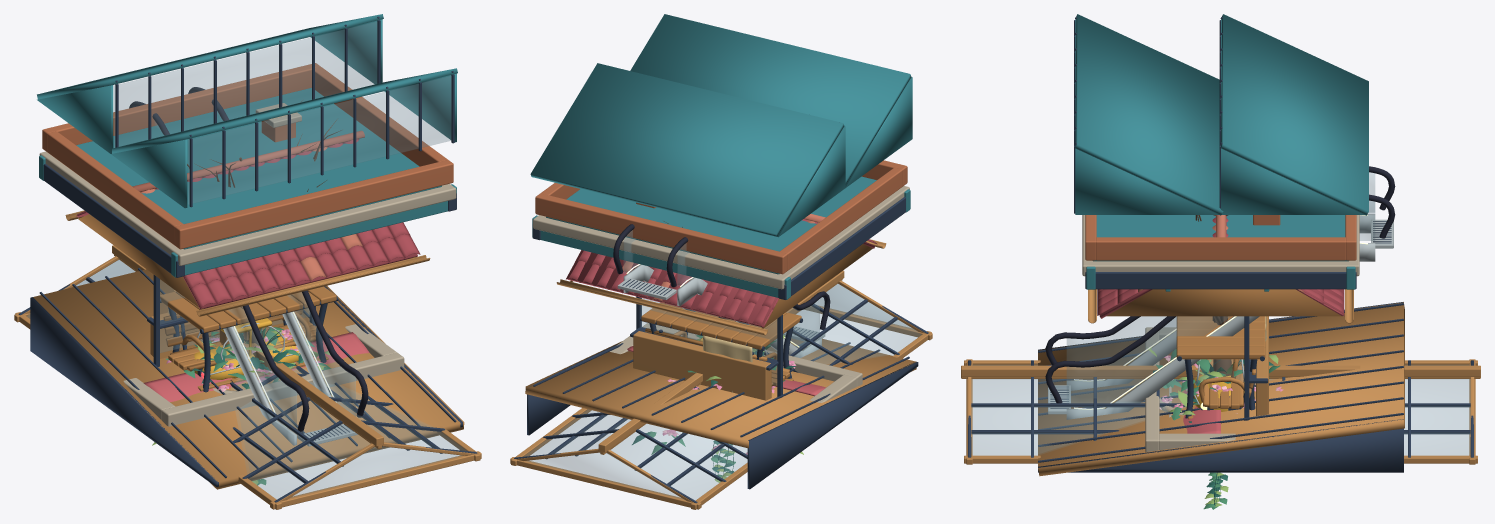
The model's file is lantern-organic.glb.
3 views of the same model, side by side, from view 1: azimuth 30°, elevation 25°; view 2: azimuth 150°, elevation 25°; view 3: azimuth 270°, elevation 25° (orthographic). The views are drawn at different scales.
Parts seen in each view (by area): view 1: barrel-roof / Glass · clear blue, studio-roof / Copper 繚 mellow patina, diner-roof / Ceramic 繚 terracotta, diner-roof / Zinc 繚 turquoise patina, barrel-roof / Zinc 繚 turquoise patina, mall-skylight / Glass · clear blue, studio-roof / Metal 繚 graphite blue, apartment-roof / Clay tile · oxblood, diner-roof / Stone 繚 honed limestone, mall-skylight / Copper 繚 mellow patina, fountain-bowl / Stone 繚 honed limestone, barrel-roof / Metal 繚 graphite blue (+21 smaller); view 2: barrel-roof / Zinc 繚 turquoise patina, mall-skylight / Glass · clear blue, studio-roof / Copper 繚 mellow patina, diner-roof / Ceramic 繚 terracotta, studio-roof / Metal 繚 graphite blue, mall-skylight / Copper 繚 mellow patina, apartment-roof / Clay tile · oxblood, fountain-spout / Copper 繚 mellow patina, diner-roof / Stone 繚 honed limestone, diner-roof / Zinc 繚 turquoise patina, mall-skylight / Metal 繚 graphite blue, cafe-roof / Zinc 繚 turquoise patina (+13 smaller); view 3: barrel-roof / Zinc 繚 turquoise patina, studio-roof / Copper 繚 mellow patina, mall-skylight / Glass · clear blue, studio-roof / Metal 繚 graphite blue, mall-skylight / Copper 繚 mellow patina, mall-escalator / Glass · clear blue, diner-roof / Ceramic 繚 terracotta, diner-roof / Zinc 繚 turquoise patina, apartment-roof / Timber 繚 oiled ash, mall-escalator / Chrome · brushed silver, cafe-roof / Metal 繚 graphite blue, diner-roof / Stone 繚 honed limestone (+14 smaller).
Part boxes in pixels (bbox=[...]): barrel-roof / Glass · clear blue: bbox=[114, 21, 451, 204]; studio-roof / Copper 繚 mellow patina: bbox=[33, 269, 464, 489]; diner-roof / Ceramic 繚 terracotta: bbox=[42, 63, 453, 249]; diner-roof / Zinc 繚 turquoise patina: bbox=[76, 88, 441, 249]; barrel-roof / Zinc 繚 turquoise patina: bbox=[37, 14, 457, 208]; mall-skylight / Glass · clear blue: bbox=[27, 260, 466, 499]; studio-roof / Metal 繚 graphite blue: bbox=[30, 268, 462, 486]; apartment-roof / Clay tile · oxblood: bbox=[76, 139, 420, 309]; diner-roof / Stone 繚 honed limestone: bbox=[39, 151, 456, 265]; mall-skylight / Copper 繚 mellow patina: bbox=[14, 245, 481, 509]; fountain-bowl / Stone 繚 honed limestone: bbox=[123, 324, 404, 426]; barrel-roof / Metal 繚 graphite blue: bbox=[115, 16, 454, 207]; barrel-roof / Zinc 繚 turquoise patina: bbox=[530, 14, 912, 237]; mall-skylight / Glass · clear blue: bbox=[524, 284, 921, 500]; studio-roof / Copper 繚 mellow patina: bbox=[525, 338, 916, 448]; diner-roof / Ceramic 繚 terracotta: bbox=[535, 160, 907, 274]; studio-roof / Metal 繚 graphite blue: bbox=[527, 342, 918, 489]; mall-skylight / Copper 繚 mellow patina: bbox=[510, 270, 932, 509]; apartment-roof / Clay tile · oxblood: bbox=[566, 219, 877, 327]; fountain-spout / Copper 繚 mellow patina: bbox=[633, 331, 771, 400]; diner-roof / Stone 繚 honed limestone: bbox=[533, 186, 909, 289]; diner-roof / Zinc 繚 turquoise patina: bbox=[546, 176, 876, 274]; mall-skylight / Metal 繚 graphite blue: bbox=[514, 299, 928, 503]; cafe-roof / Zinc 繚 turquoise patina: bbox=[532, 189, 910, 299]; barrel-roof / Zinc 繚 turquoise patina: bbox=[1075, 14, 1368, 215]; studio-roof / Copper 繚 mellow patina: bbox=[1038, 302, 1404, 476]; mall-skylight / Glass · clear blue: bbox=[971, 364, 1470, 455]; studio-roof / Metal 繚 graphite blue: bbox=[1038, 302, 1403, 472]; mall-skylight / Copper 繚 mellow patina: bbox=[961, 359, 1480, 464]; mall-escalator / Glass · clear blue: bbox=[1067, 172, 1375, 402]; diner-roof / Ceramic 繚 terracotta: bbox=[1085, 215, 1356, 260]; diner-roof / Zinc 繚 turquoise patina: bbox=[1093, 215, 1348, 261]; apartment-roof / Timber 繚 oiled ash: bbox=[1106, 289, 1341, 316]; mall-escalator / Chrome · brushed silver: bbox=[1048, 214, 1393, 419]; cafe-roof / Metal 繚 graphite blue: bbox=[1085, 272, 1356, 289]; diner-roof / Stone 繚 honed limestone: bbox=[1082, 215, 1359, 276].
Size of the model in its own units: 2.24 by 3.29 by 3.64.
